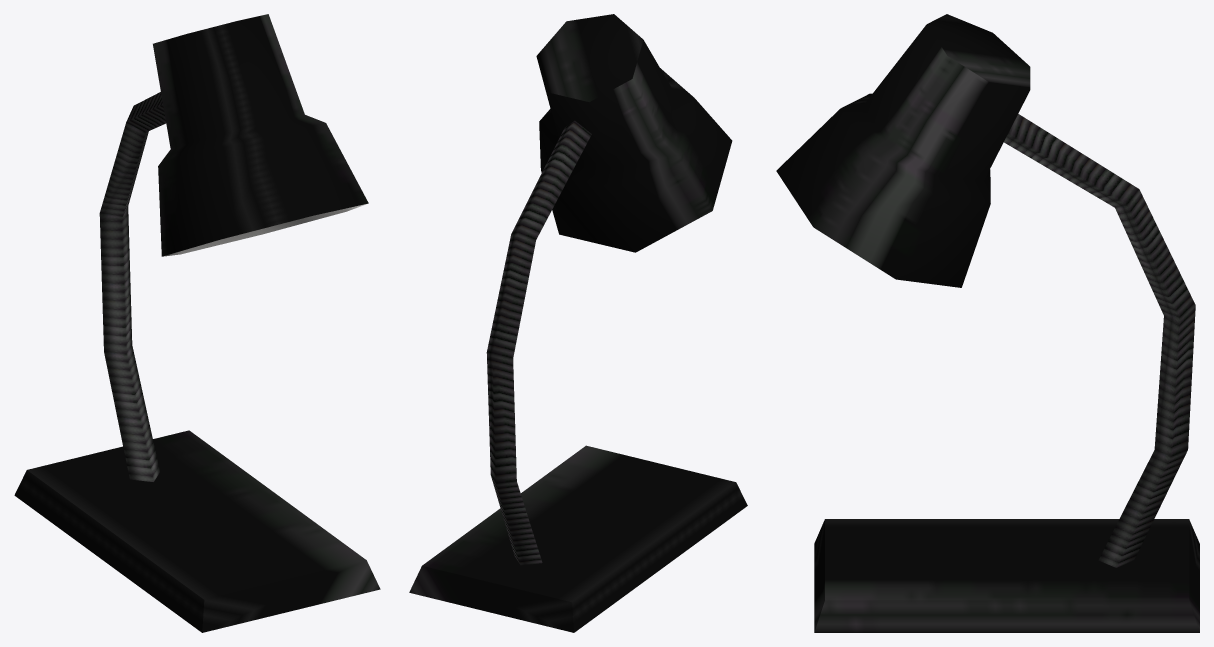
File: bendyblack.fbx
3 views of the same model, side by side, from view 1: azimuth 30°, elevation 25°; view 2: azimuth 150°, elevation 25°; view 3: azimuth 270°, elevation 25° (orthographic). The views are drawn at different scales.
Visible parts, largest first — view 1: mesh_0; view 2: mesh_0; view 3: mesh_0.
Part boxes in pixels (box(x1,y1,x2,y2)): mesh_0: box(14, 14, 380, 632); mesh_0: box(409, 14, 747, 632); mesh_0: box(776, 14, 1199, 632).
Bounding box in the file's own units: 17.6 × 49.95 × 33.98.
1 material, 1 textured.
